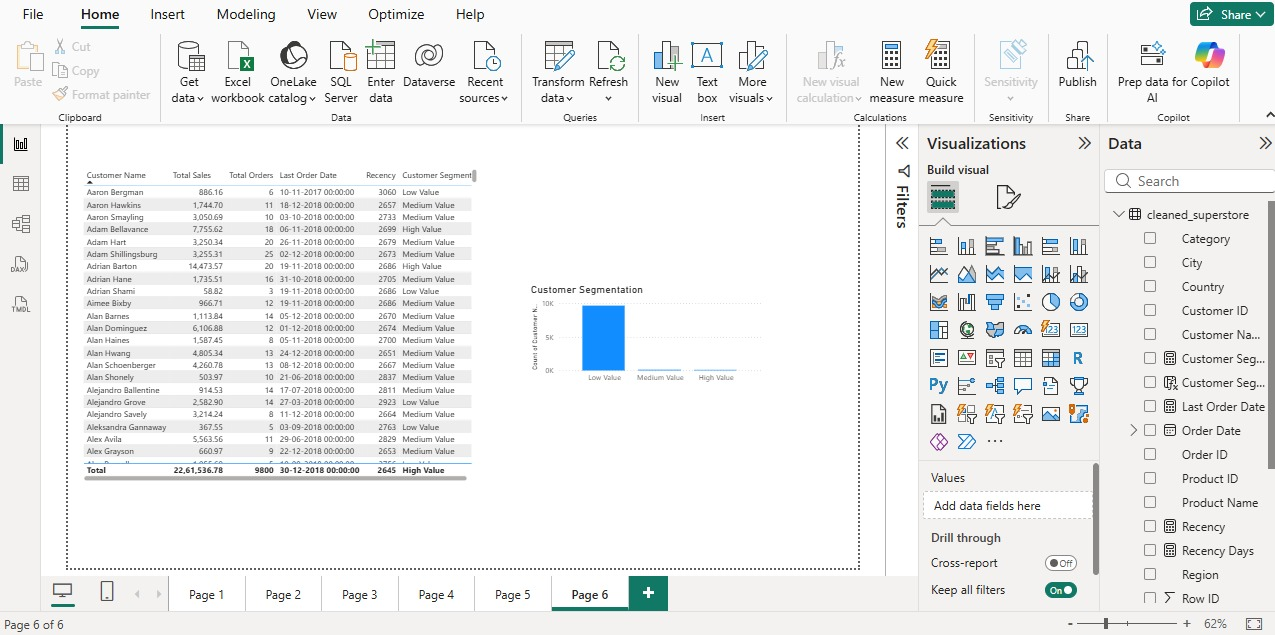

What the dashboard file says about the page in this screenshot:
{"tool":"powerbi","page":{"name":"Page 6","canvas":[1280,720],"ordinal":5},"visuals":[{"type":"tableEx","fields":{"Values":["cleaned_superstore.Customer Name","cleaned_superstore.Total Sales","cleaned_superstore.Total Orders","cleaned_superstore.Last Order Date","cleaned_superstore.Recency","cleaned_superstore.Customer Segment"]},"box":[0,21.2,648.8,516.2],"z":0},{"type":"clusteredColumnChart","title":"Customer Segmentation","fields":{"Category":["cleaned_superstore.Customer Segment Column"],"Y":["CountNonNull(cleaned_superstore.Customer Name)"]},"box":[667.5,240,383.8,172.5],"z":1000}]}

Visuals, with their boxes on the page's 1280x720 design canvas (x1, y1, x2, y2). These are canvas units, not pixel positions in the 1275x635 screenshot, which may show the page scaled, cropped or inside an application window:
tableEx - cleaned_superstore.Customer Name x cleaned_superstore.Total Sales: <box>0,21,649,537</box>
"Customer Segmentation" clusteredColumnChart: <box>668,240,1051,412</box>
